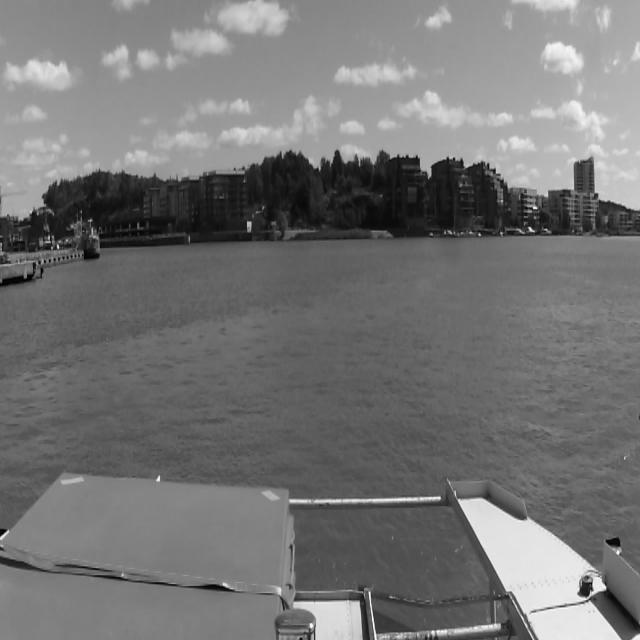ship: (82, 219, 100, 261)
